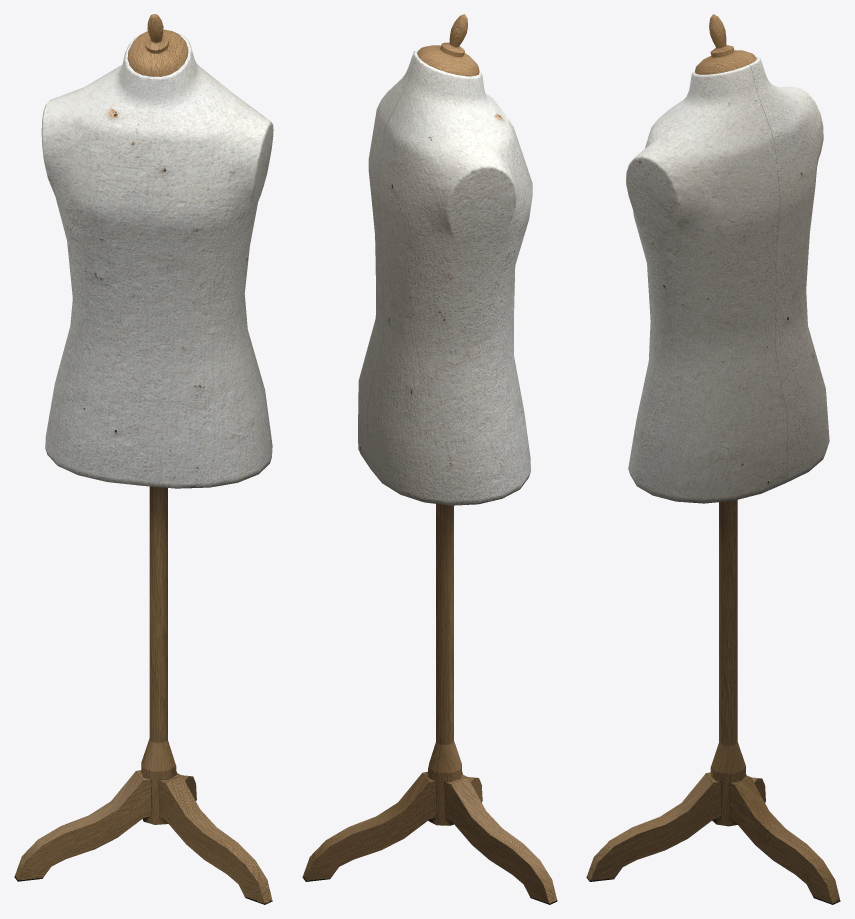
Rendered from Mannequin6 (5.34067, 5.24213, 0.3).glb.
3 renders of one model, left to right at view 1: azimuth 30°, elevation 25°; view 2: azimuth 150°, elevation 25°; view 3: azimuth 270°, elevation 25°, orthographic.
Parts seen in each view (by area): view 1: DressMannequin.012; view 2: DressMannequin.012; view 3: DressMannequin.012.
Boxes of the visible parts, bbox=[...] form: DressMannequin.012: bbox=[14, 14, 273, 904]; DressMannequin.012: bbox=[302, 14, 557, 904]; DressMannequin.012: bbox=[586, 14, 840, 904].
Bounding box in the file's own units: 0.4965 × 1.86 × 0.5079.
Materials: 1 (1 with a texture image).
